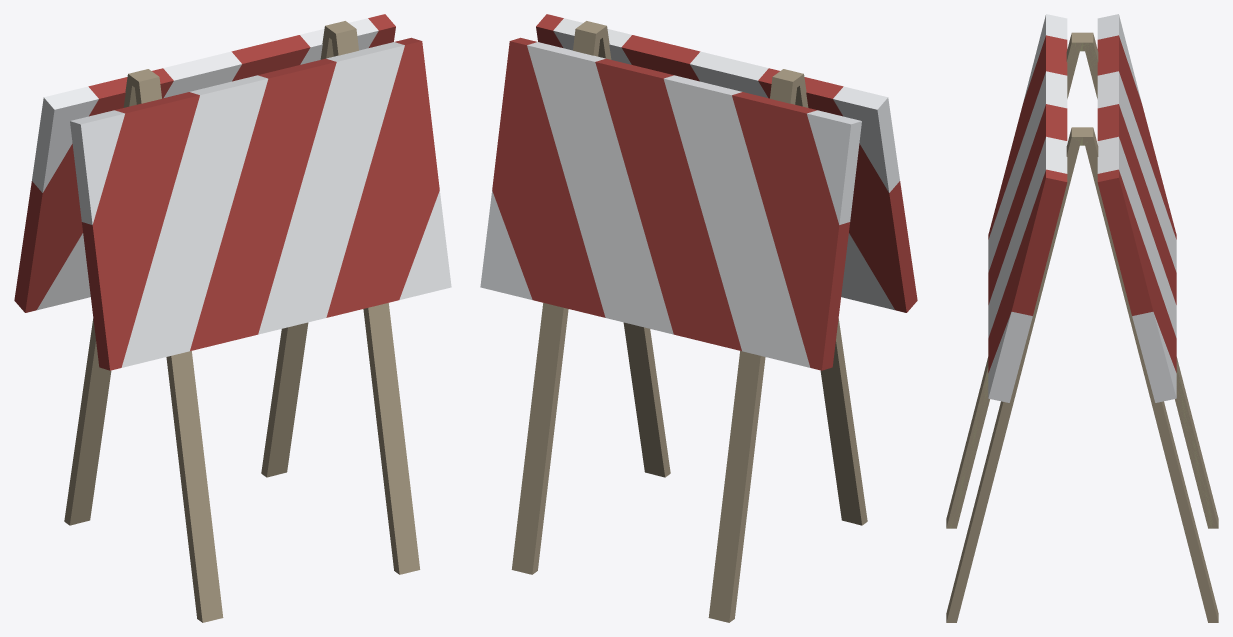
Rendered from Wood_Road_Block_XSmall_001.glb.
The picture shows the model from 3 angles, left to right: view 1: azimuth 30°, elevation 25°; view 2: azimuth 150°, elevation 25°; view 3: azimuth 270°, elevation 25°; orthographic projection.
Parts seen in each view (by area): view 1: Wood Road Block XSmall.001; view 2: Wood Road Block XSmall.001; view 3: Wood Road Block XSmall.001.
Boxes of the visible parts, x1,y1,x2,y2 form: Wood Road Block XSmall.001: (14,14,451,622); Wood Road Block XSmall.001: (480,14,917,622); Wood Road Block XSmall.001: (946,14,1218,622).
Size of the model in its own units: 4.25 by 5.88 by 2.99.
Materials: 1 (1 with a texture image).
